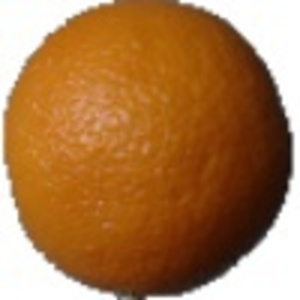laranja: (5, 1, 294, 297)
